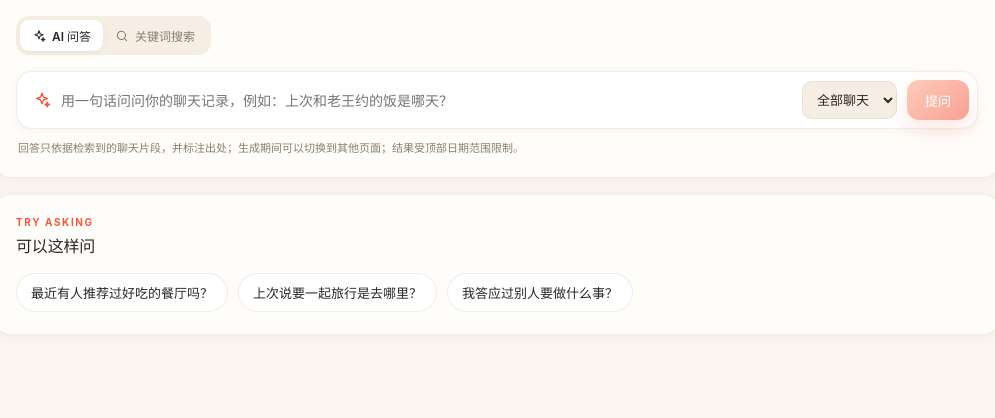
Test: AI ask › streams the answer and lists cited sources
In the field named "输入问题": (426, 100) [61,84,792,116], type "我们约了去哪？"
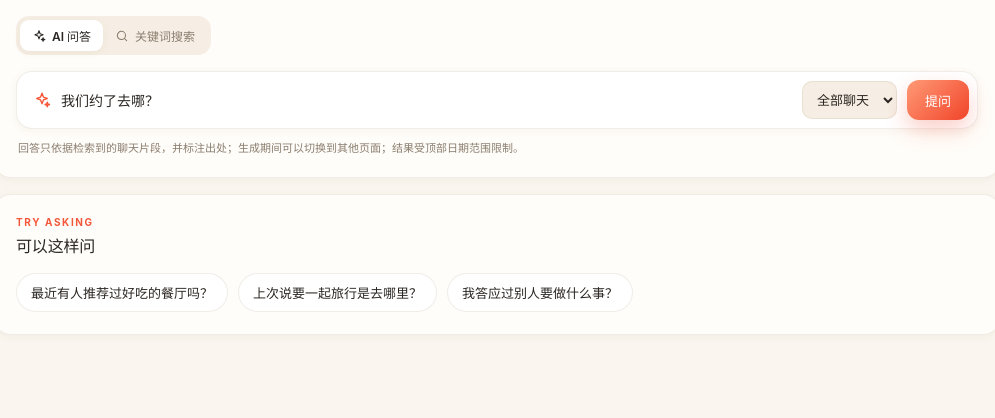
Click the button "提问": (938, 100) [907,80,969,120]
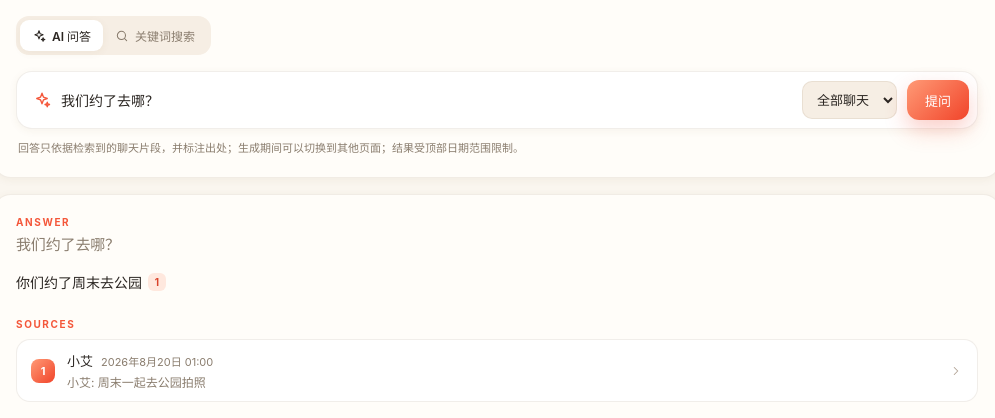
expect the text "你们约了" is shown: met, box [16,274,146,291]
expect the button named "查看来源 1" is shown: met, box [148,273,166,291]
expect the text "小艾: 周末一起去公园拍照" is shown: met, box [67,375,206,390]
